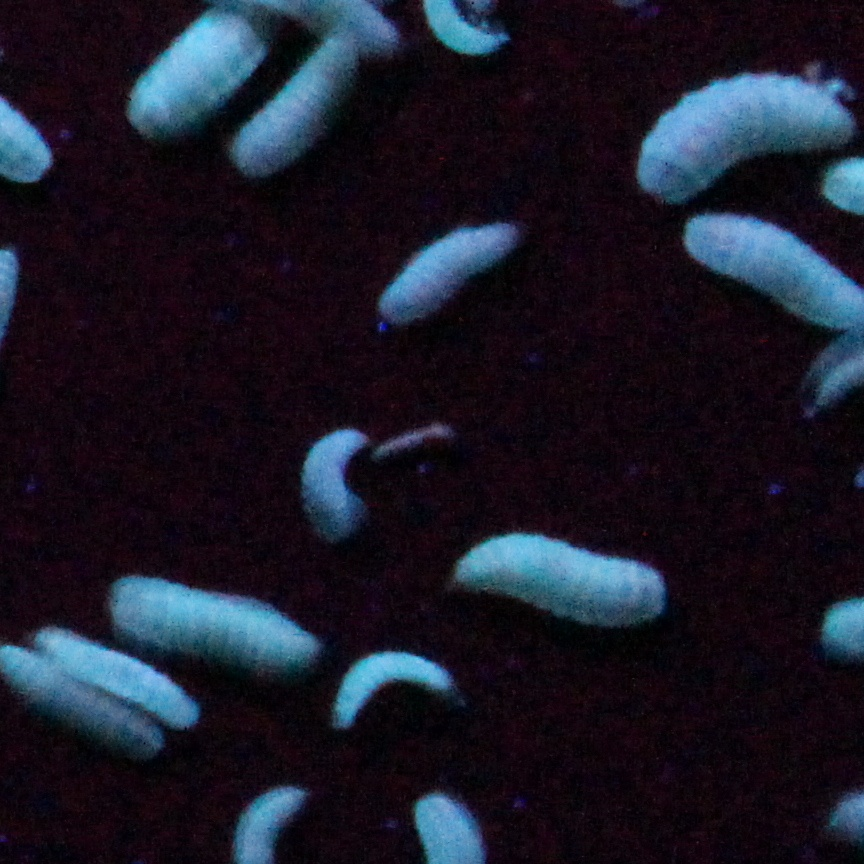larve: (642, 63, 853, 202), (445, 522, 663, 628), (127, 0, 286, 136), (678, 213, 861, 331), (109, 577, 324, 667), (230, 30, 361, 174), (34, 620, 198, 733), (380, 213, 520, 320), (299, 422, 380, 541), (334, 653, 457, 730)
